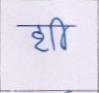i_matra: (53, 17, 68, 50)
